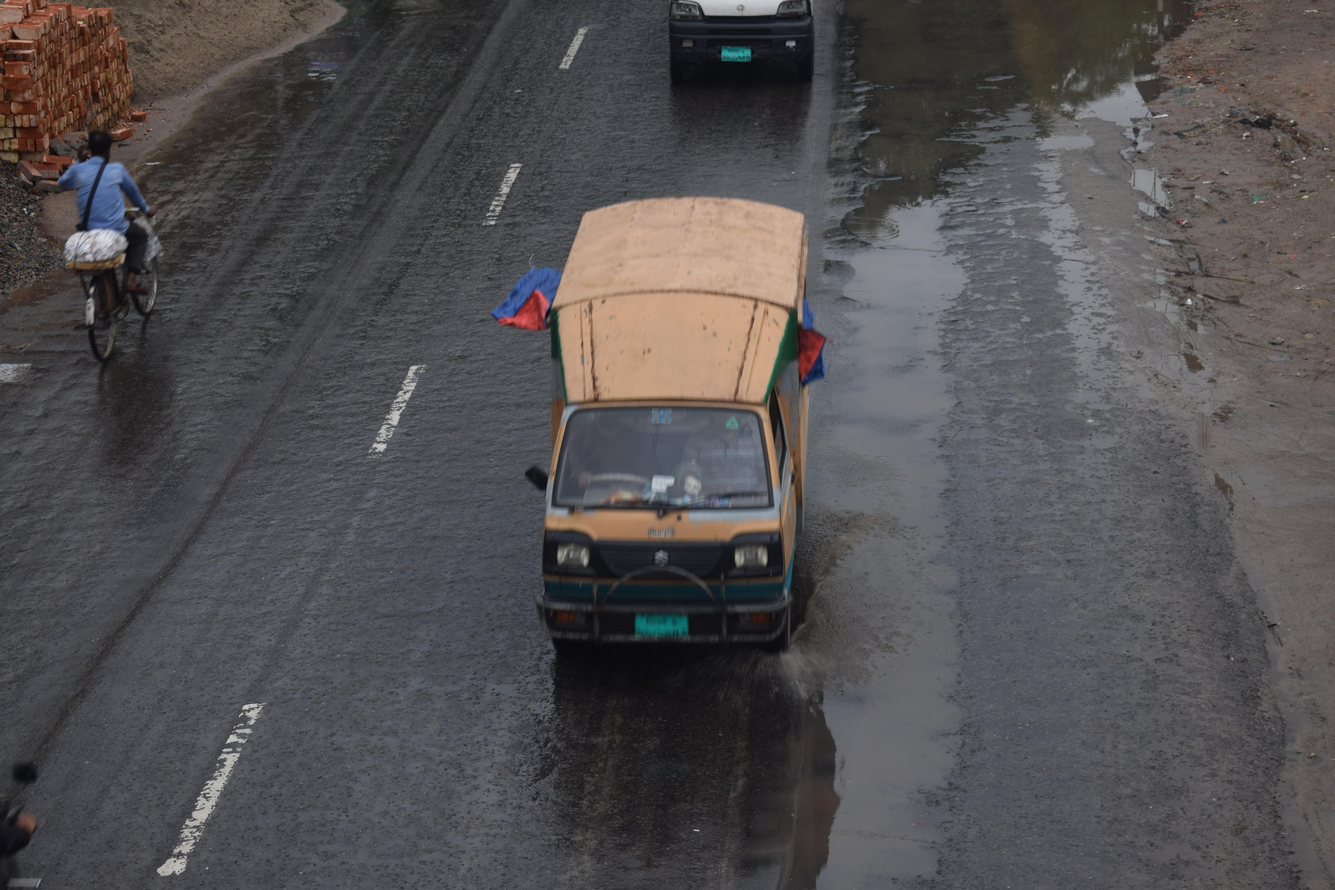Car: (445, 143, 880, 694)
